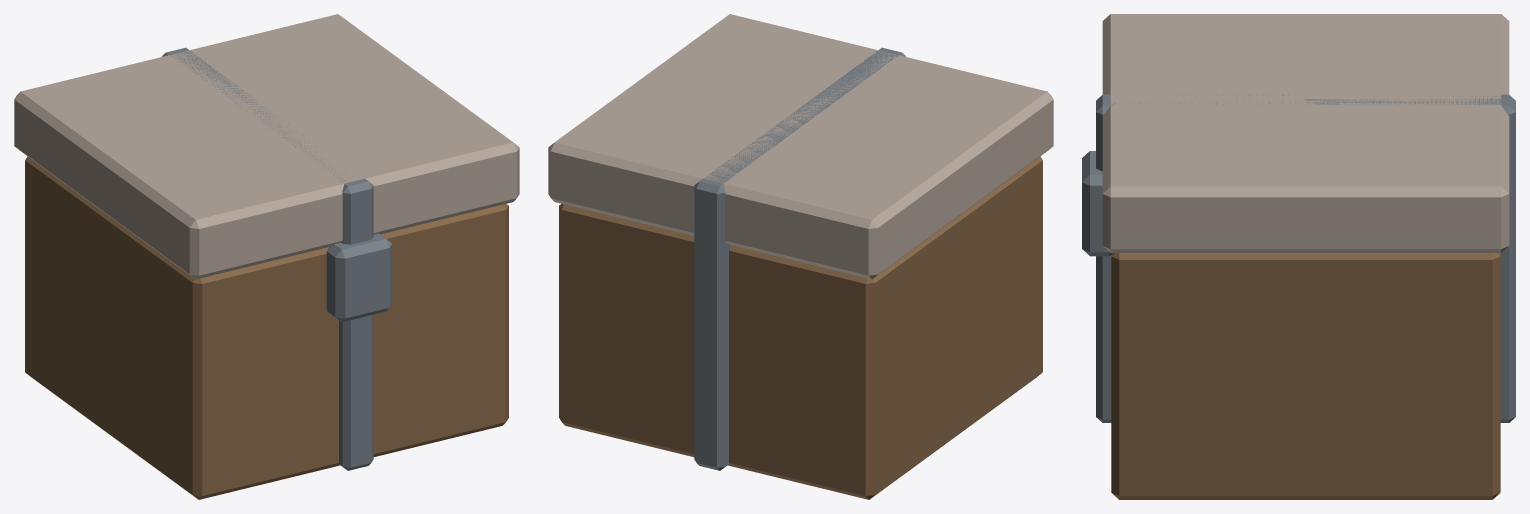
The model's file is cargo_crate.lod1.glb.
3 renders of one model, left to right at view 1: azimuth 30°, elevation 25°; view 2: azimuth 150°, elevation 25°; view 3: azimuth 270°, elevation 25°, orthographic. The views are drawn at different scales.
Bounding box in the file's own units: 0.96 × 0.7912 × 0.9814.
